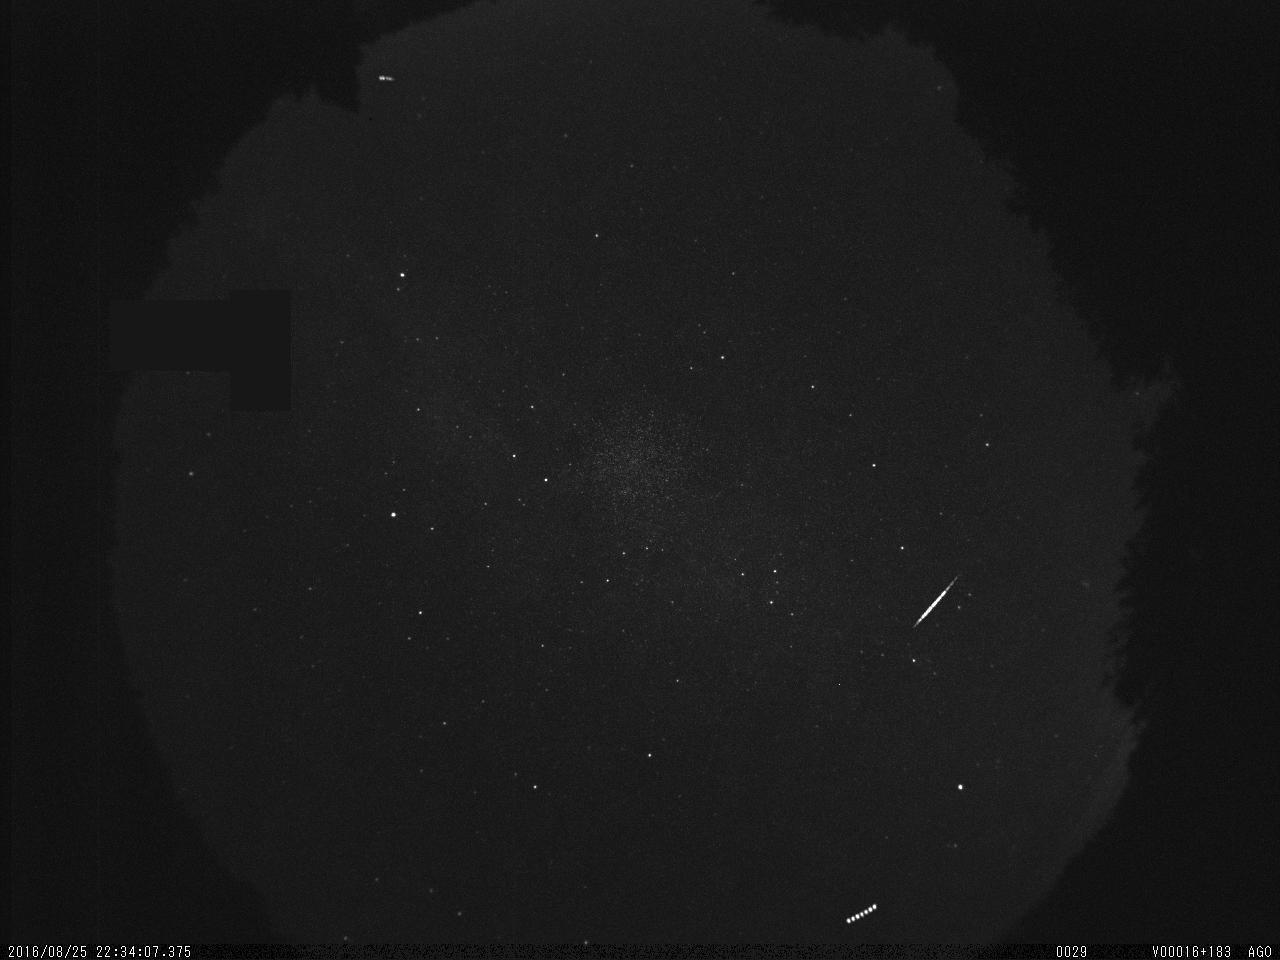Meteor: (909, 570, 965, 629), (373, 71, 398, 86)
